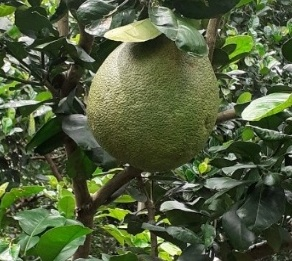Buoi: (83, 28, 221, 174)
